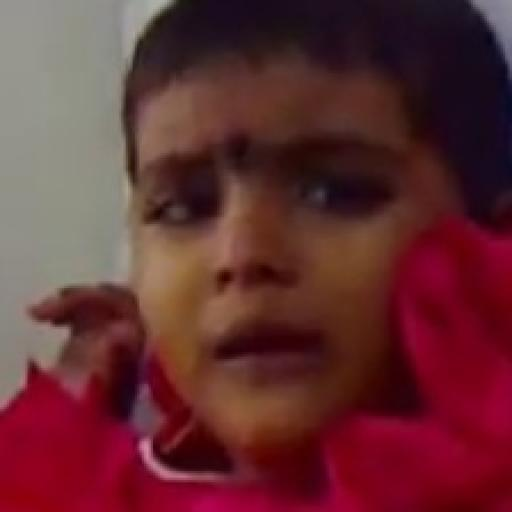Autism: (125, 16, 512, 445)
